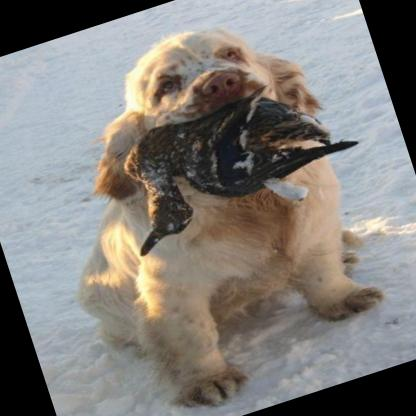clumber: (8, 0, 401, 416)
